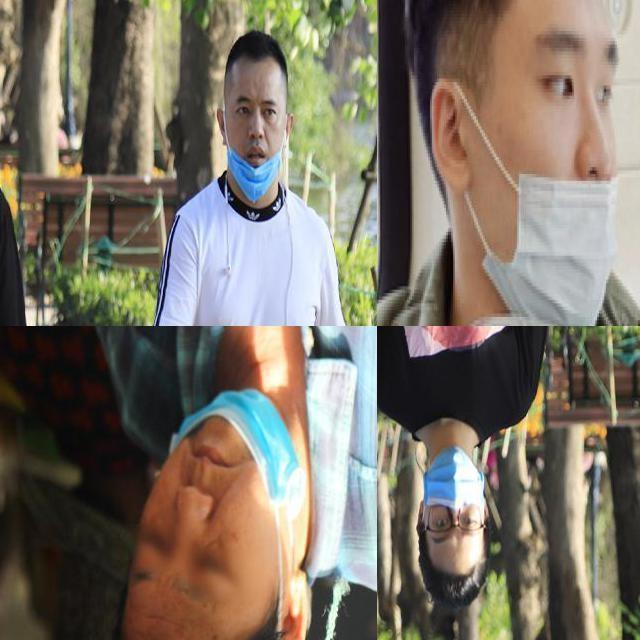hairnet: (470, 131, 618, 322), (150, 389, 299, 527), (226, 120, 289, 204)
